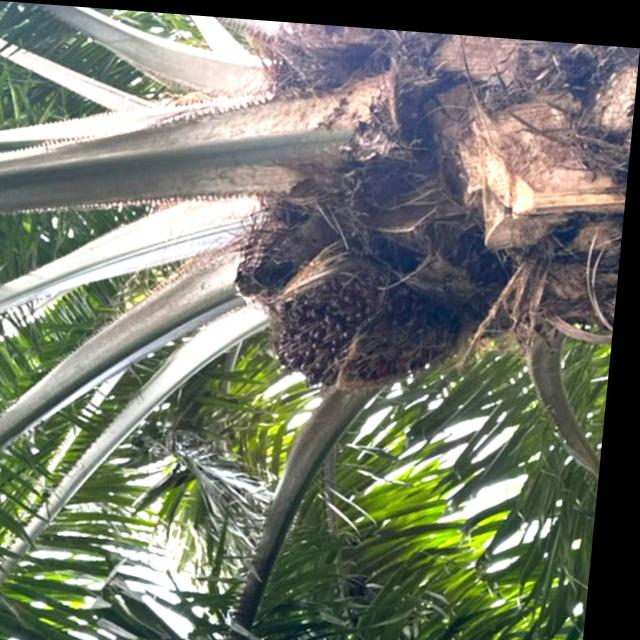ripe: (258, 233, 479, 406)
